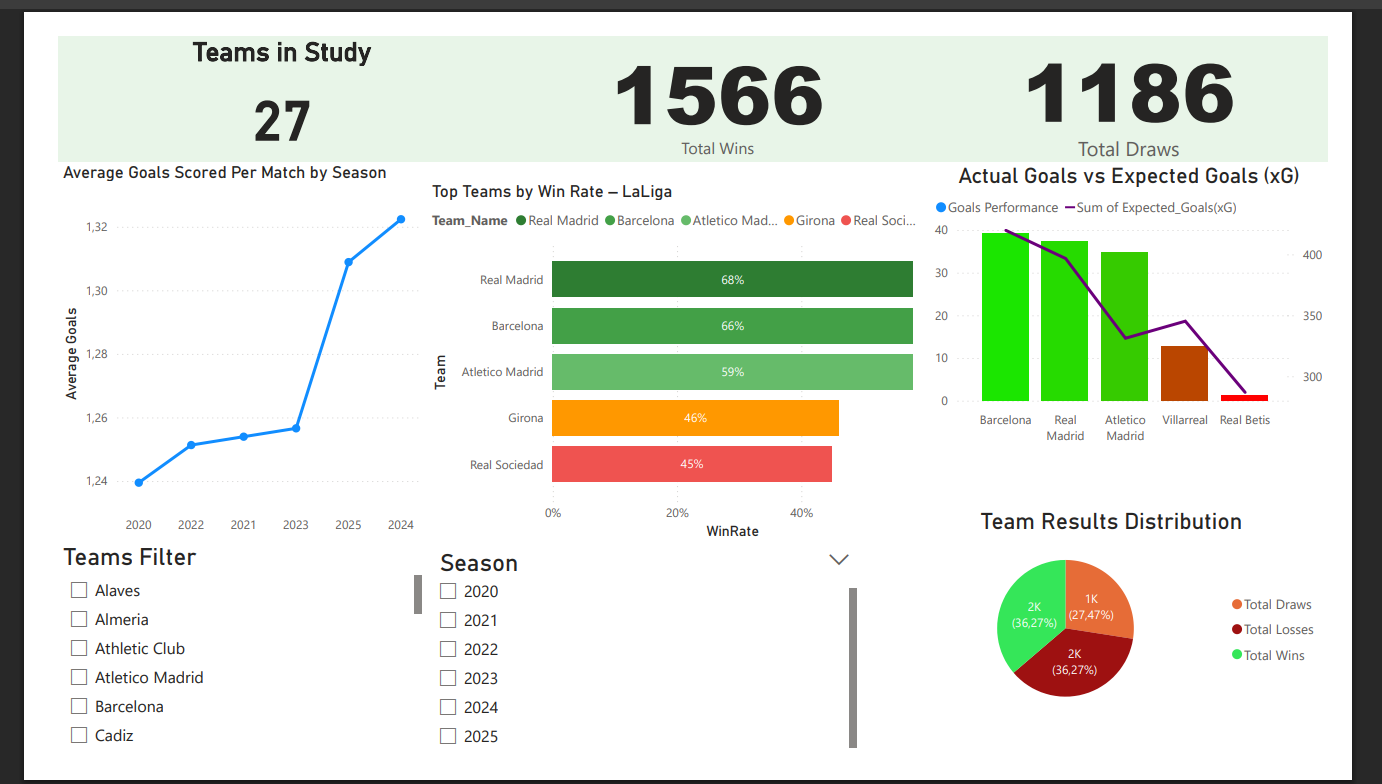

The page's visual inventory and layout, read from the dashboard file:
{"tool":"powerbi","page":{"name":"Page 1","canvas":[1280,720],"ordinal":0},"visuals":[{"type":"card","title":"Teams in Study","fields":{"Values":["Count(La Liga Analysis.Team_Name)"]},"box":[9.6,0,448.7,126.2],"z":0},{"type":"lineChart","title":"Average Goals Scored Per Match by Season","fields":{"Y":["La Liga Analysis.Average Goals per Match"],"Category":["La Liga Analysis.Season_Year"]},"box":[9.8,126,369.3,381.5],"z":1000},{"type":"slicer","fields":{"Values":["La Liga Analysis.Team_Name"]},"box":[10,533,369,187],"z":2000},{"type":"pieChart","title":"Team Results Distribution","fields":{"Y":["La Liga Analysis.Total Draws","La Liga Analysis.Total Losses","La Liga Analysis.Total Wins"]},"box":[846.7,472,433.6,215.4],"z":3000},{"type":"barChart","title":"Top Teams by Win Rate – LaLiga","fields":{"Category":["La Liga Analysis.Team_Name"],"Series":["La Liga Analysis.Team_Name"],"Y":["La Liga Analysis.WinRate"]},"box":[378.7,145.5,503.6,362.3],"z":4000},{"type":"lineStackedColumnComboChart","title":" Actual Goals vs Expected Goals (xG)","fields":{"Category":["La Liga Analysis.Team_Name"],"Y2":["Sum(La Liga Analysis.Expected_Goals(xG))"],"Y":["La Liga Analysis.Goals Performance"]},"box":[882.3,126.9,397.7,289.4],"z":5000},{"type":"card","fields":{"Values":["La Liga Analysis.Total Wins"]},"box":[458.3,0,424,126.2],"z":6000},{"type":"slicer","fields":{"Values":["La Liga Analysis.Season_Year"]},"box":[378.7,507.7,435,211.3],"z":7000},{"type":"card","fields":{"Values":["La Liga Analysis.Total Draws"]},"box":[882.3,0,397.9,126.2],"z":8000}]}

Visuals, with their boxes in screenshot pixels (x1, y1, x2, y2), scaled from the page's 1280x720 canvas onto the 1382x784 screenshot:
"Teams in Study" card: box=[10, 0, 495, 137]
"Average Goals Scored Per Match by Season" lineChart: box=[11, 137, 409, 553]
slicer - La Liga Analysis.Team_Name: box=[11, 580, 409, 783]
"Team Results Distribution" pieChart: box=[914, 514, 1381, 749]
"Top Teams by Win Rate – LaLiga" barChart: box=[409, 158, 953, 553]
" Actual Goals vs Expected Goals (xG)" lineStackedColumnComboChart: box=[953, 138, 1381, 453]
card - La Liga Analysis.Total Wins: box=[495, 0, 953, 137]
slicer - La Liga Analysis.Season_Year: box=[409, 553, 879, 783]
card - La Liga Analysis.Total Draws: box=[953, 0, 1381, 137]
